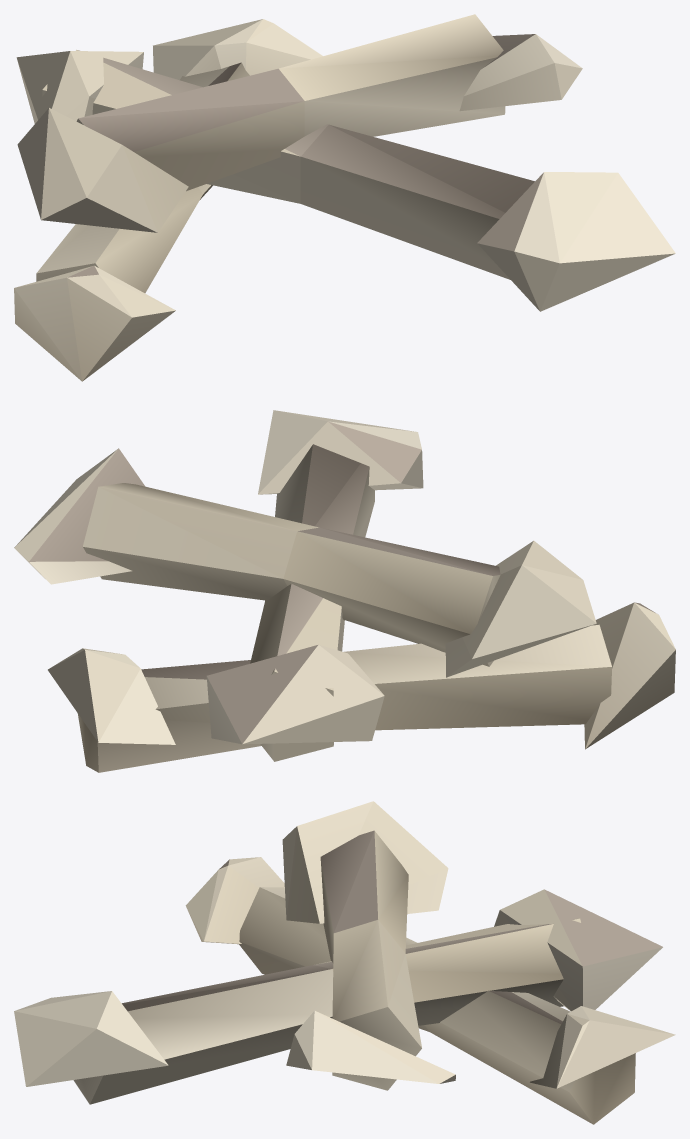
Rendered from ash_bones.glb.
3 views of the same model, one above another, from view 1: azimuth 30°, elevation 25°; view 2: azimuth 150°, elevation 25°; view 3: azimuth 270°, elevation 25° (orthographic). The views are drawn at different scales.
Visible parts, largest first — view 1: ca_ash_bones; view 2: ca_ash_bones; view 3: ca_ash_bones.
Boxes of the visible parts, box(x1,y1,x2,y2) form: ca_ash_bones: box(14, 14, 675, 381); ca_ash_bones: box(14, 410, 675, 772); ca_ash_bones: box(14, 801, 675, 1124).
Bounding box in the file's own units: 0.7387 × 0.2368 × 0.7934.
1 material, 1 textured.
